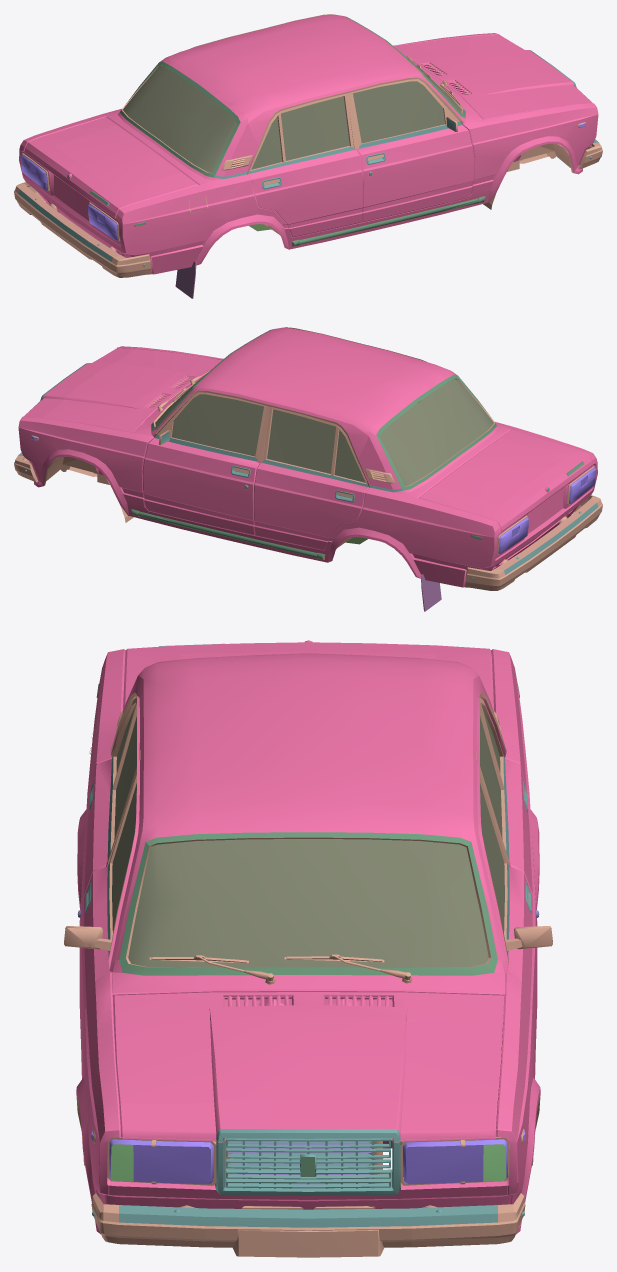
File: vaz.obj
3 renders of one model, top to bottom at view 1: azimuth 30°, elevation 25°; view 2: azimuth 150°, elevation 25°; view 3: azimuth 270°, elevation 25°, orthographic. The views are drawn at different scales.
Parts seen in each view (by area): view 1: vaz2107.smd.030, glass.smd.001, zad_bump.smd.004, brizgoviki.smd, per_bump.smd; view 2: vaz2107.smd.030, glass.smd.001, zad_bump.smd.004, brizgoviki.smd, per_bump.smd; view 3: vaz2107.smd.030, glass.smd.001, per_bump.smd.
Part boxes in pixels (left/top/right/bottom): vaz2107.smd.030: left=19, top=14, right=598, bottom=274; glass.smd.001: left=123, top=59, right=461, bottom=172; zad_bump.smd.004: left=14, top=182, right=151, bottom=277; brizgoviki.smd: left=175, top=261, right=196, bottom=298; per_bump.smd: left=578, top=139, right=602, bottom=169; vaz2107.smd.030: left=18, top=327, right=597, bottom=587; glass.smd.001: left=155, top=373, right=493, bottom=485; zad_bump.smd.004: left=465, top=495, right=602, bottom=590; brizgoviki.smd: left=421, top=574, right=441, bottom=611; per_bump.smd: left=14, top=452, right=38, bottom=482; vaz2107.smd.030: left=64, top=640, right=552, bottom=1234; glass.smd.001: left=112, top=707, right=504, bottom=967; per_bump.smd: left=91, top=1193, right=525, bottom=1257.
Bounding box in the file's own units: 3.61 × 1.16 × 1.54.
